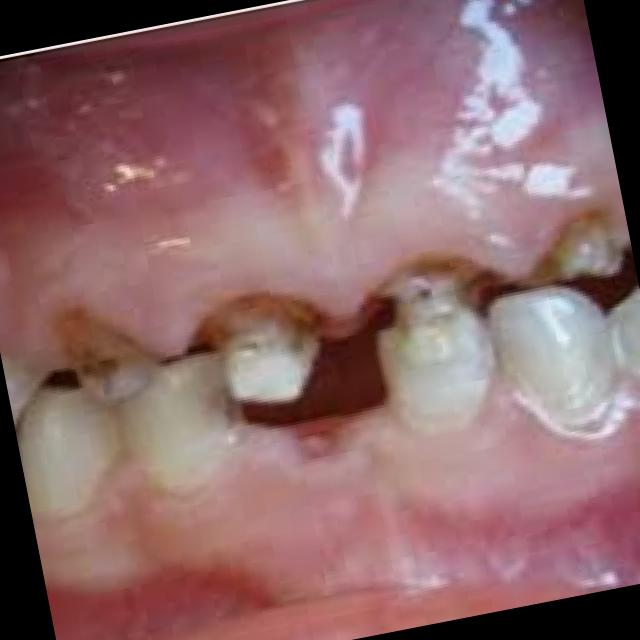caries: (337, 220, 513, 336), (172, 268, 342, 382), (39, 292, 153, 417), (508, 185, 636, 296)
